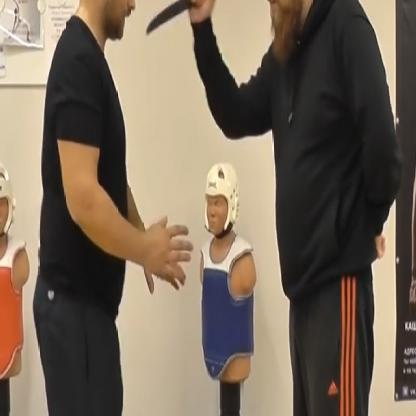knife: (138, 0, 218, 42)
